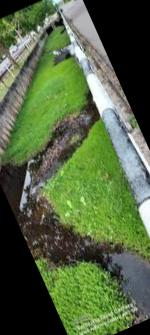Blocked drain: (0, 16, 150, 335)
